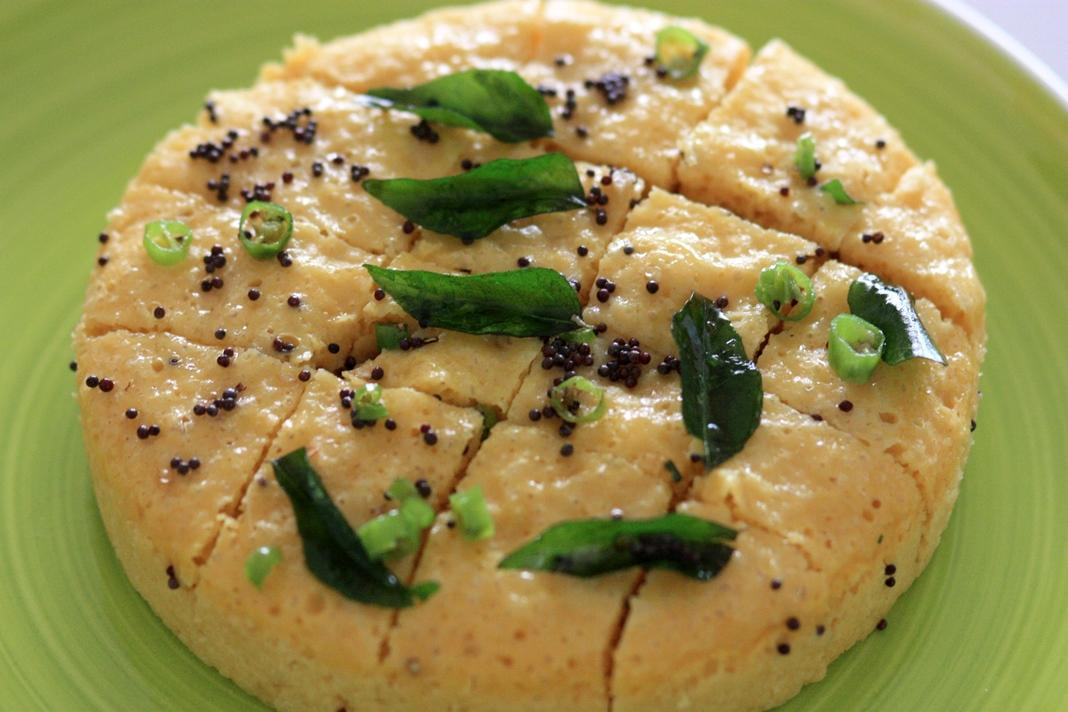dhokla: (86, 0, 988, 712)
